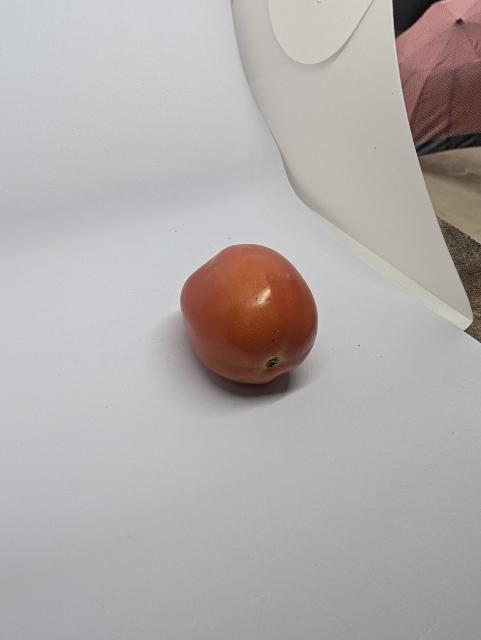red: (173, 227, 336, 398)
